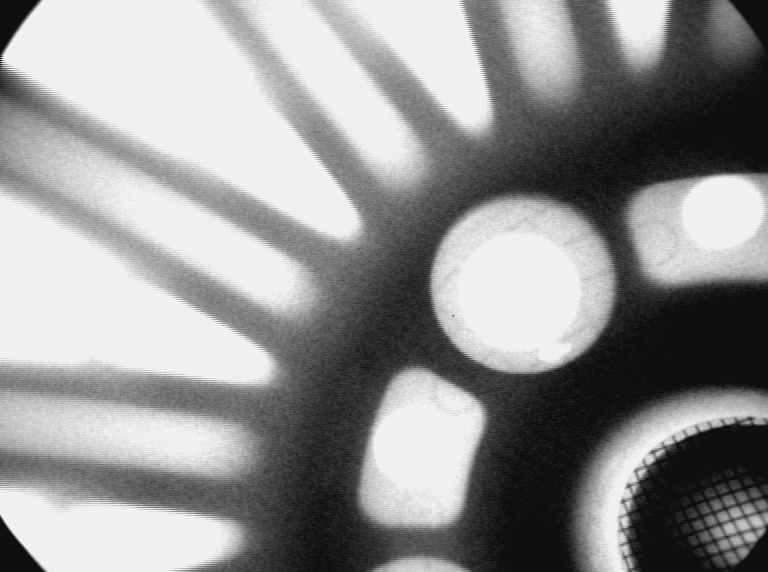defect: (536, 339, 577, 366)
